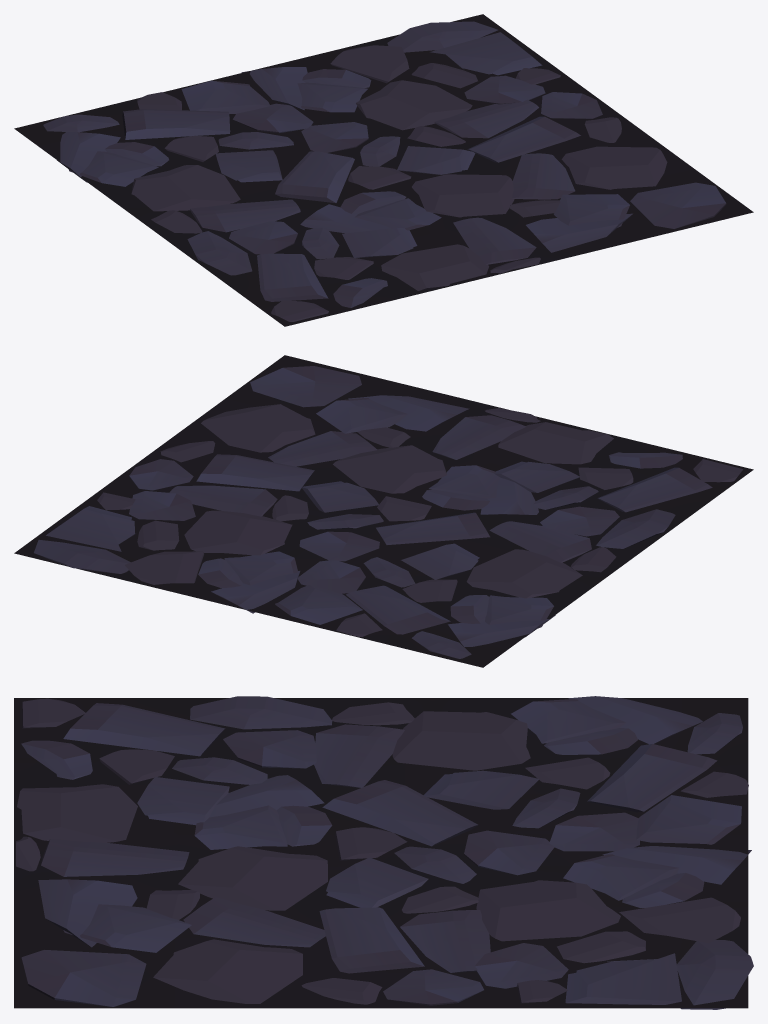
Rendered from floor123 1.fbx.
The picture shows the model from 3 angles, top to bottom: view 1: azimuth 30°, elevation 25°; view 2: azimuth 150°, elevation 25°; view 3: azimuth 270°, elevation 25°; orthographic projection. The views are drawn at different scales.
Visible parts, largest first — view 1: Plane.003; view 2: Plane.003; view 3: Plane.003.
Boxes of the visible parts, left/top/right/bottom form: Plane.003: left=14, top=14, right=753, bottom=326; Plane.003: left=14, top=355, right=753, bottom=667; Plane.003: left=14, top=696, right=753, bottom=1009.
Size of the model in its own units: 1625 by 20.08 by 1631.
